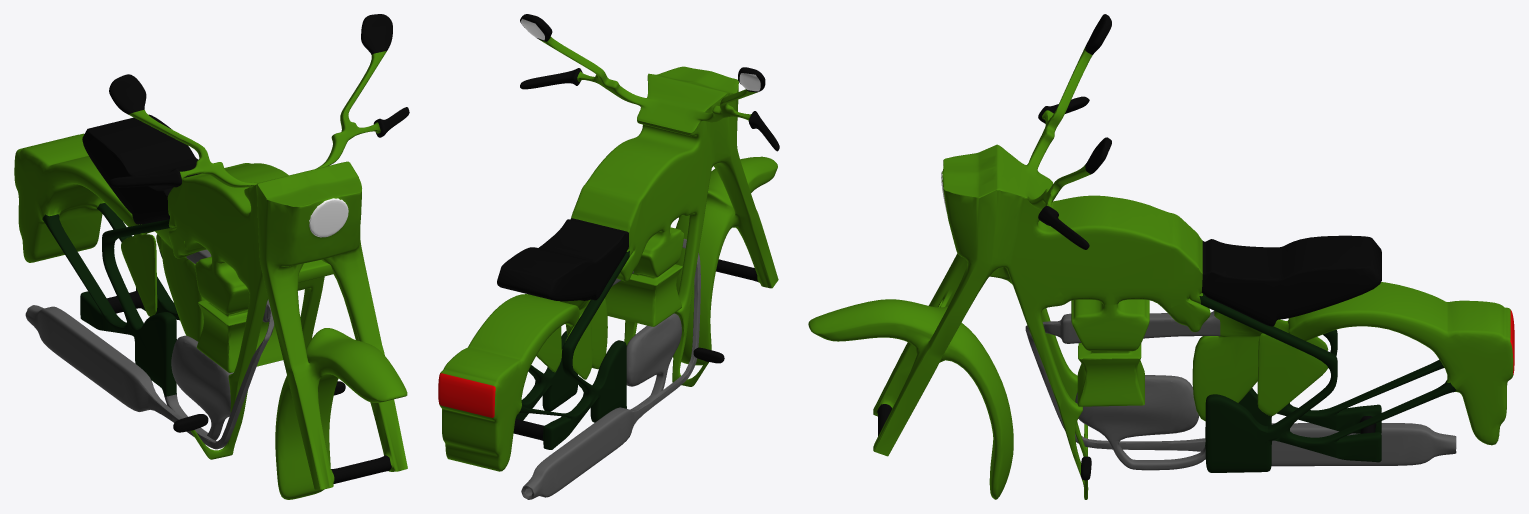
The model's file is moto_frame.obj.
3 renders of one model, left to right at view 1: azimuth 30°, elevation 25°; view 2: azimuth 150°, elevation 25°; view 3: azimuth 270°, elevation 25°, orthographic. The views are drawn at different scales.
Visible parts, largest first — view 1: morotcycle_motorcycle.002; view 2: morotcycle_motorcycle.002; view 3: morotcycle_motorcycle.002.
Part boxes in pixels (x1,y1,x2,y2): morotcycle_motorcycle.002: (14, 14, 409, 499); morotcycle_motorcycle.002: (438, 14, 779, 499); morotcycle_motorcycle.002: (808, 14, 1514, 499).
Size of the model in its own units: 4.44 by 5.85 by 9.03.
